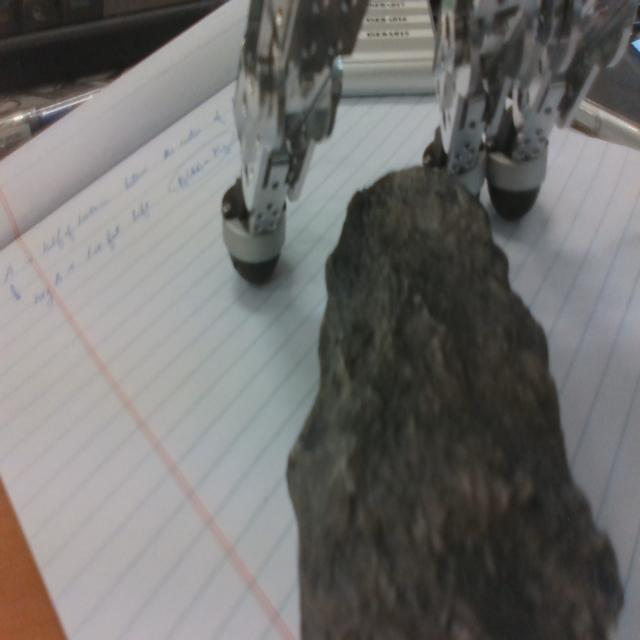stone: (286, 170, 624, 640)
